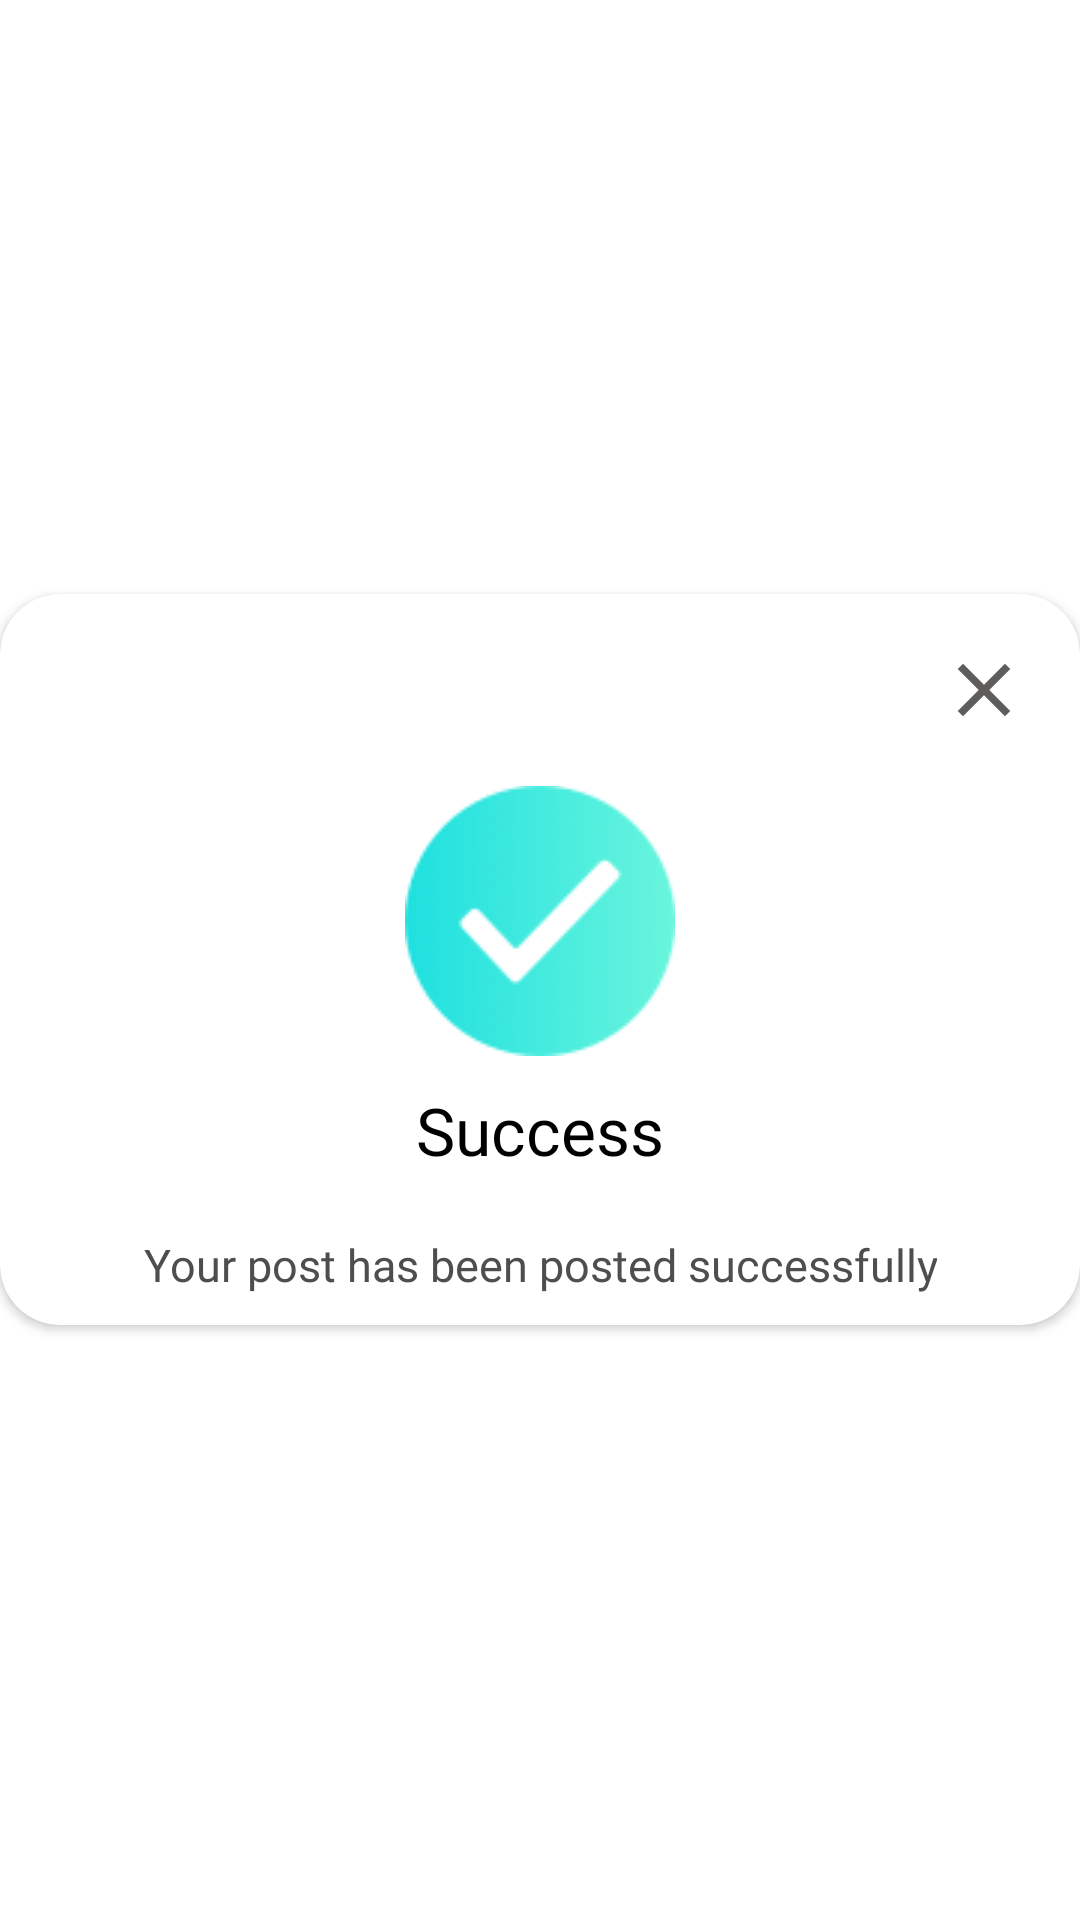

Screen size 1080 × 1920. Icon name, then its center in pixels as (x=x, y=y):
close: (x=984, y=690)
